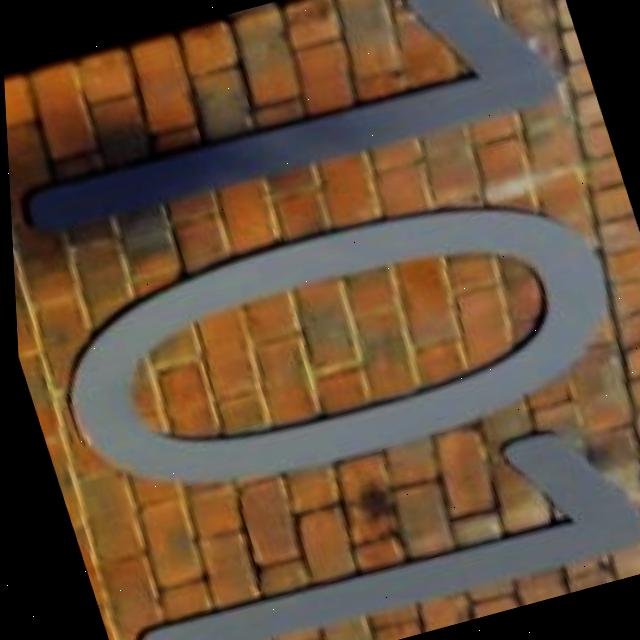character: (15, 155, 640, 538), (0, 0, 591, 263), (84, 401, 640, 640)
